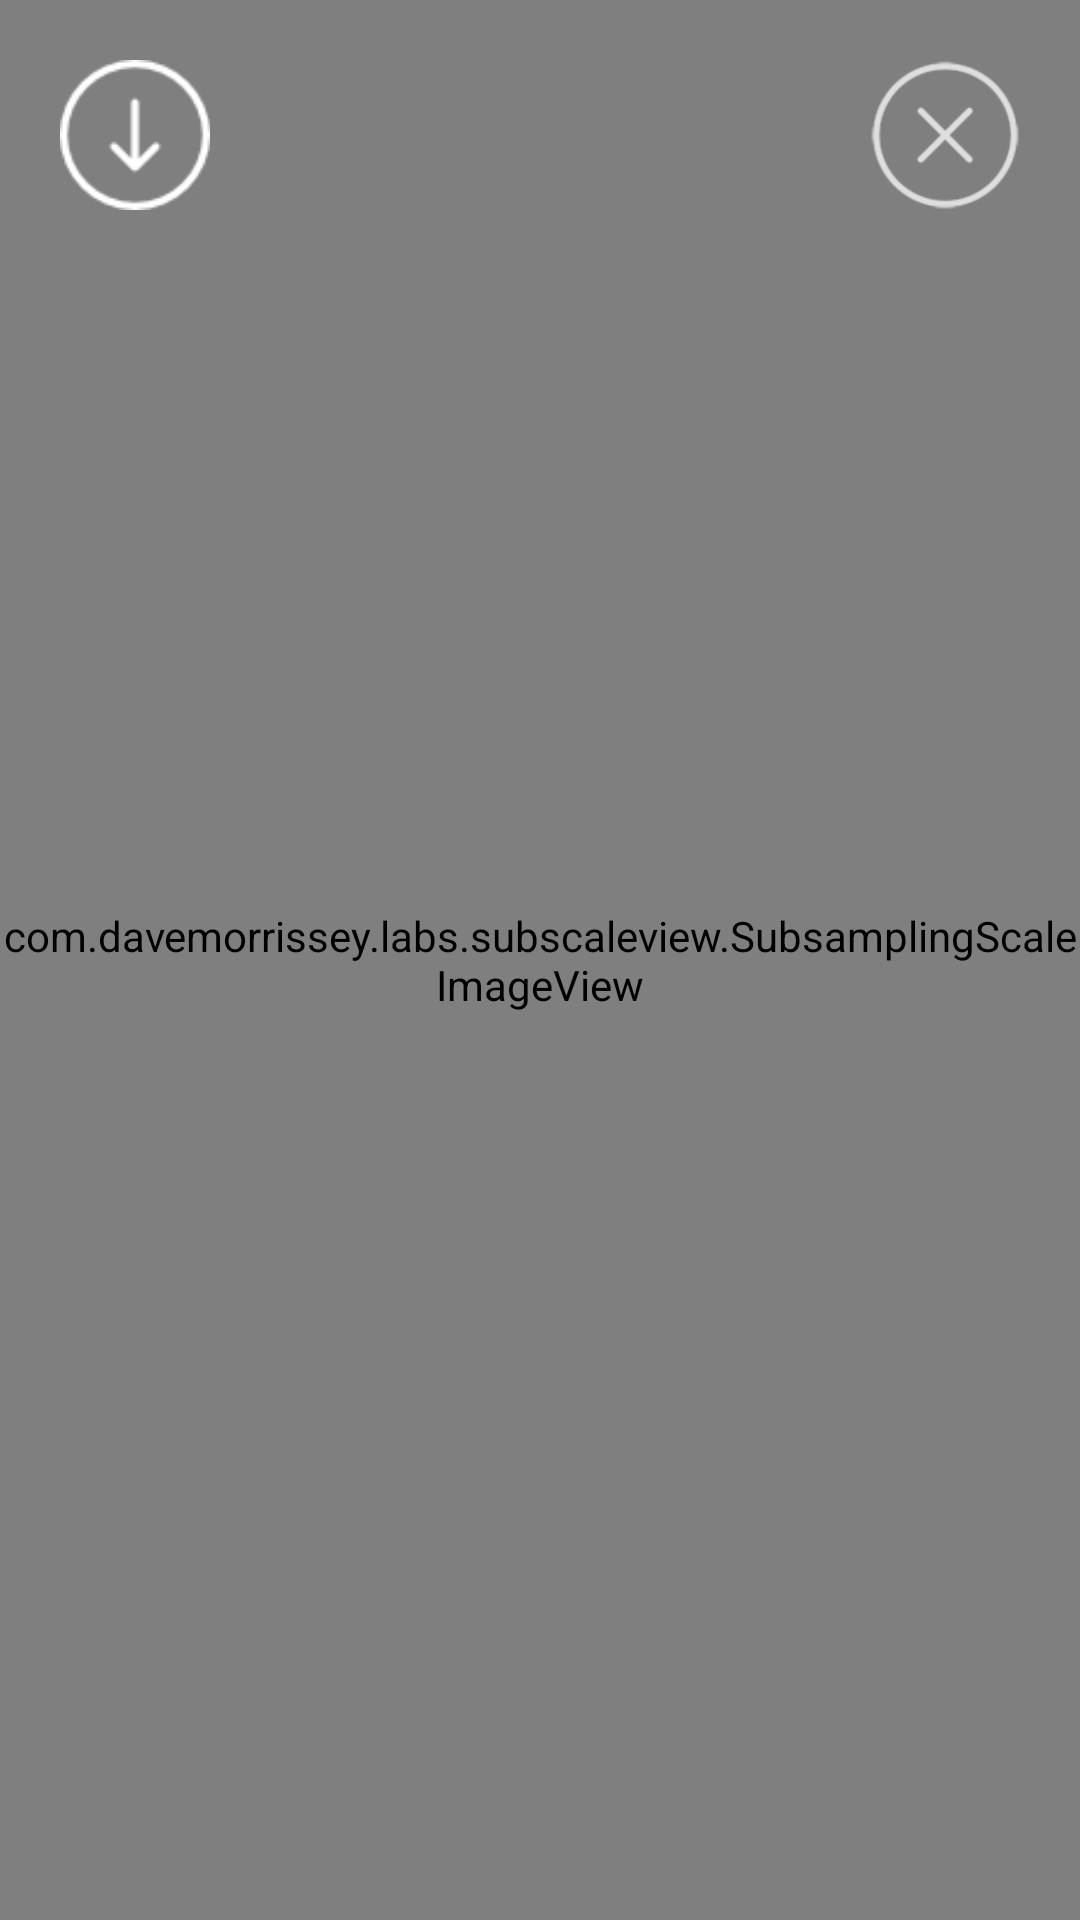

Icons on this 1080 × 1920 Android screen, each with the point to tap as (x=x, y=y):
close: (x=945, y=135)
download arrow: (x=135, y=135)
